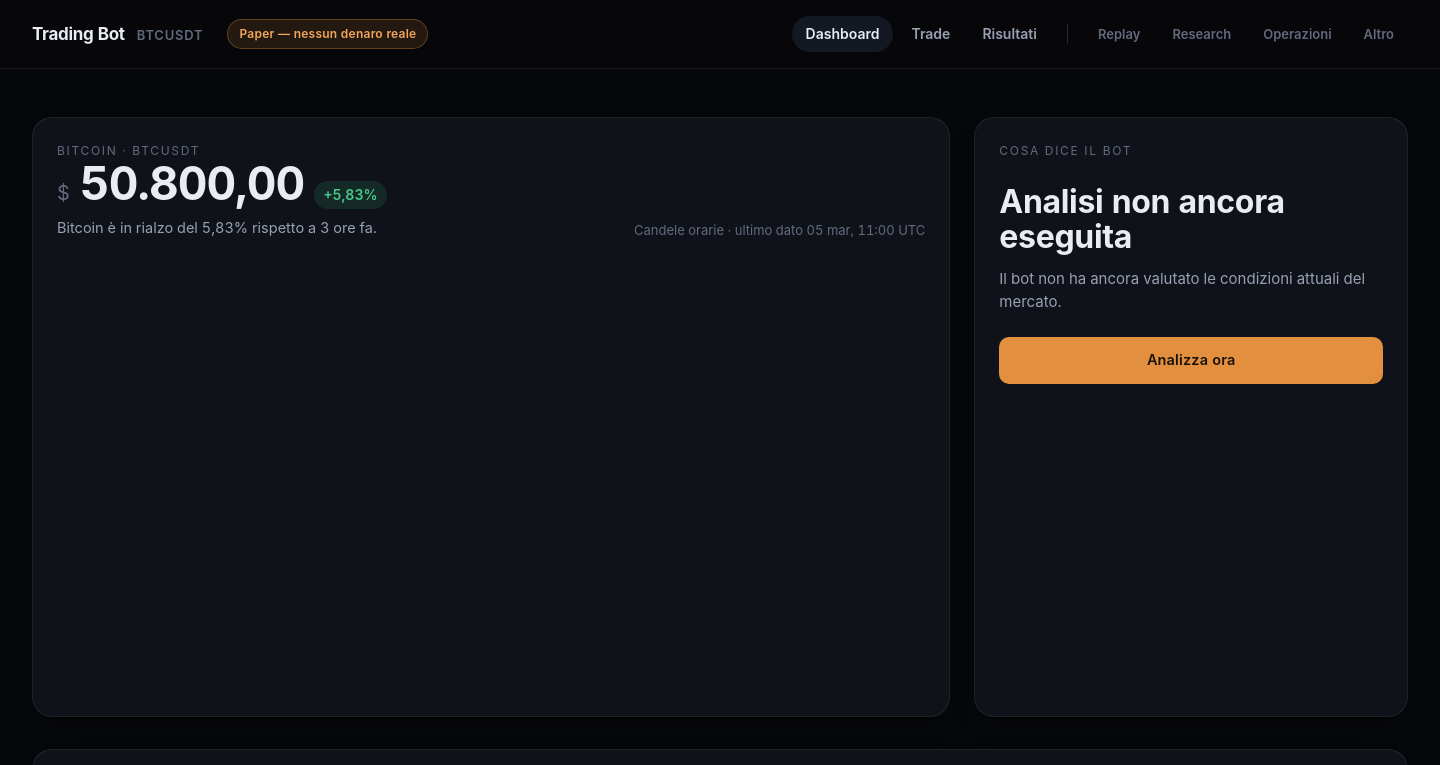
Test case: simulazione › offre «Simula questo trade» solo quando la creazione è permessa
The image size is (1440, 765).
Check: the text "Analisi non ancora eseguita" is shown, box [999,182,1285,256]
Check: the button "Simula questo trade" is not shown
Click the button "Analizza ora": (1191, 360) [999,337,1383,384]
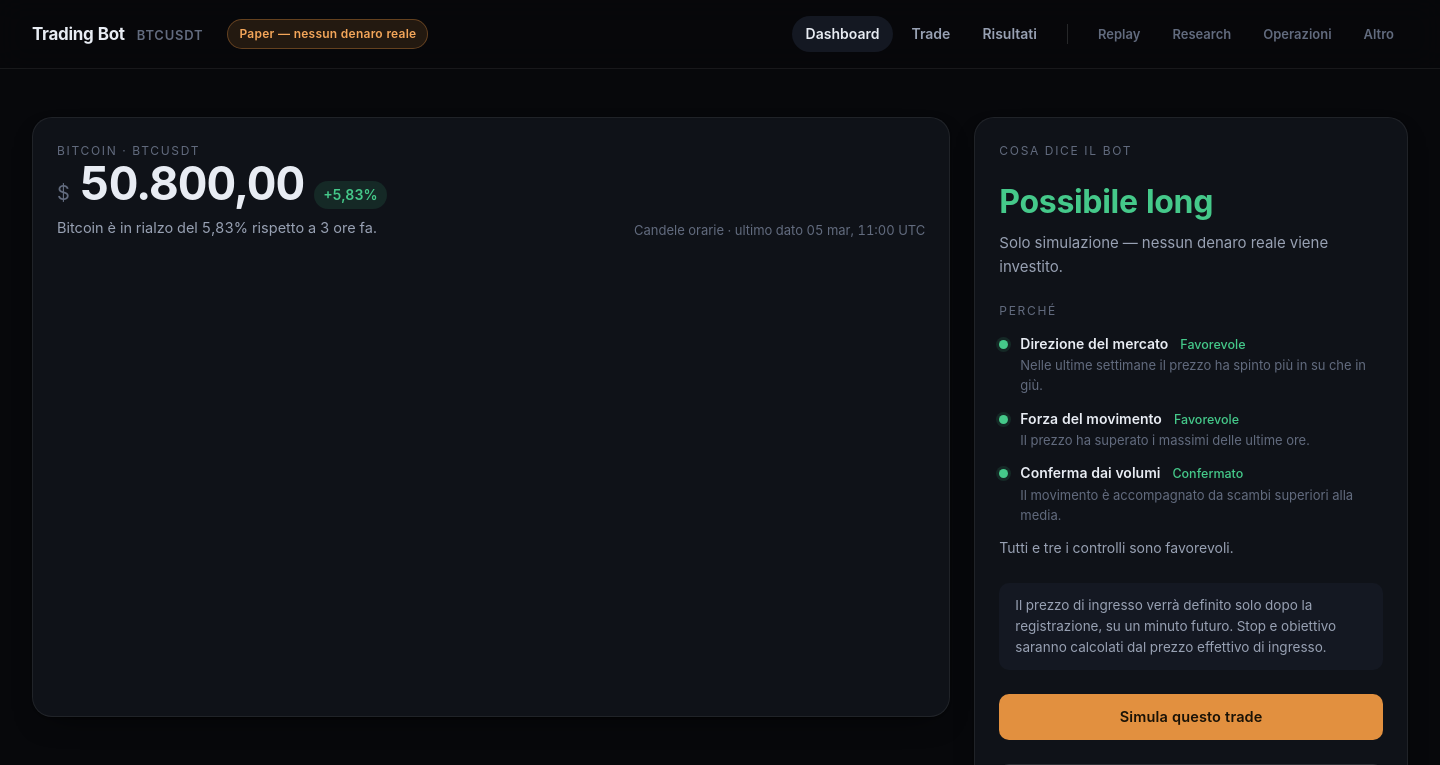
Check: the button "Simula questo trade" is enabled, box [999,694,1383,740]
